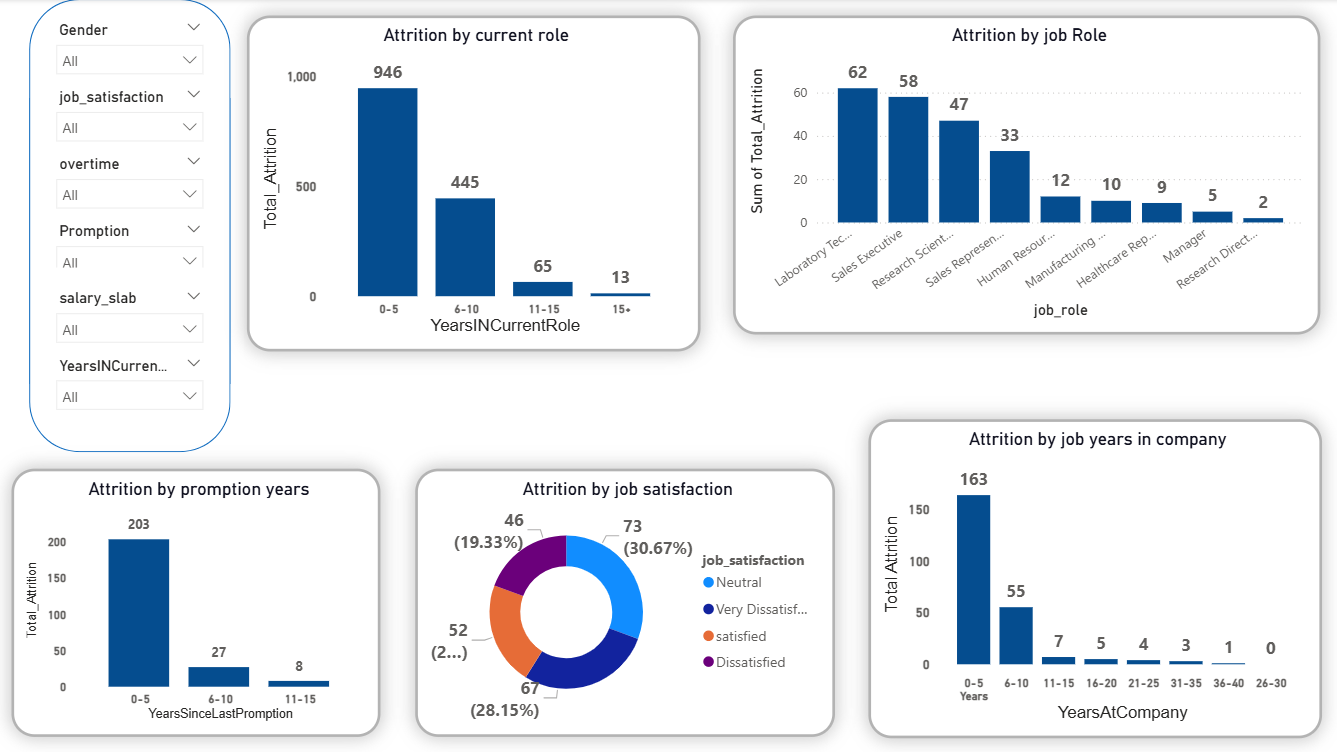

What the dashboard file says about the page in this screenshot:
{"tool":"powerbi","page":{"name":"Dashboard 2","canvas":[1280,720],"ordinal":2},"visuals":[{"type":"donutChart","title":"Attrition by job satisfaction","fields":{"Category":["employee_attrition job_satisfaction_attrition.job_satisfaction"],"Y":["Sum(employee_attrition job_satisfaction_attrition.Total_Attrition)"]},"box":[400,448,400,256],"z":0},{"type":"columnChart","title":"Attrition by job Role","fields":{"Category":["employee_attrition jobrole_attritionn.job_role"],"Y":["Sum(jobrole_attritionn.Total_Attrition)"]},"box":[704,16,560,304],"z":1000},{"type":"clusteredColumnChart","title":"Attrition by job years in company","fields":{"Category":["employee_attrition company_year_attrition.YearsAtCompany"],"Y":["Sum(employee_attrition company_year_attrition.Total_Attrition)"]},"box":[832,400,432,304],"z":2000},{"type":"clusteredColumnChart","title":"Attrition by promption years","fields":{"Category":["employee_attrition promption_attrition.YearsSinceLastPromption"],"Y":["Sum(employee_attrition promption_attrition.Total_Attrition)"]},"box":[16,448,352,256],"z":3000},{"type":"clusteredColumnChart","title":"Attrition by current role","fields":{"Category":["employee_attrition_currentrole_attrition.YearsINCurrentRole"],"Y":["CountNonNull(employee_attrition_currentrole_attrition.Total_Attrition)"]},"box":[240,16,432,320],"z":4000},{"type":"shape","box":[32,0,192,432],"z":5000},{"type":"slicer","fields":{"Values":["Gender_attrition.Gender"]},"box":[48,16,160,64],"z":6000},{"type":"slicer","fields":{"Values":["job_satisfaction_attrition.job_satisfaction"]},"box":[48,80,160,64],"z":7000},{"type":"slicer","fields":{"Values":["overtime_attrition.overtime"]},"box":[48,144,160,64],"z":8000},{"type":"slicer","fields":{"Values":["promption_attrition.YearsSinceLastPromption"]},"box":[48,208,160,48],"z":9000},{"type":"slicer","fields":{"Values":["salary_attrition.salary_slab"]},"box":[48,272,160,64],"z":10000},{"type":"slicer","fields":{"Values":["currentrole_attrition.YearsINCurrentRole"]},"box":[48,336,160,64],"z":11000}]}

Visuals, with their boxes in screenshot pixels (x1, y1, x2, y2), scaled from the page's 1280x720 canvas onto the 1337x752 screenshot:
"Attrition by job satisfaction" donutChart: (x1=418, y1=468, x2=836, y2=735)
"Attrition by job Role" columnChart: (x1=735, y1=17, x2=1320, y2=334)
"Attrition by job years in company" clusteredColumnChart: (x1=869, y1=418, x2=1320, y2=735)
"Attrition by promption years" clusteredColumnChart: (x1=17, y1=468, x2=384, y2=735)
"Attrition by current role" clusteredColumnChart: (x1=251, y1=17, x2=702, y2=351)
shape: (x1=33, y1=0, x2=234, y2=451)
slicer - Gender_attrition.Gender: (x1=50, y1=17, x2=217, y2=84)
slicer - job_satisfaction_attrition.job_satisfaction: (x1=50, y1=84, x2=217, y2=150)
slicer - overtime_attrition.overtime: (x1=50, y1=150, x2=217, y2=217)
slicer - promption_attrition.YearsSinceLastPromption: (x1=50, y1=217, x2=217, y2=267)
slicer - salary_attrition.salary_slab: (x1=50, y1=284, x2=217, y2=351)
slicer - currentrole_attrition.YearsINCurrentRole: (x1=50, y1=351, x2=217, y2=418)
